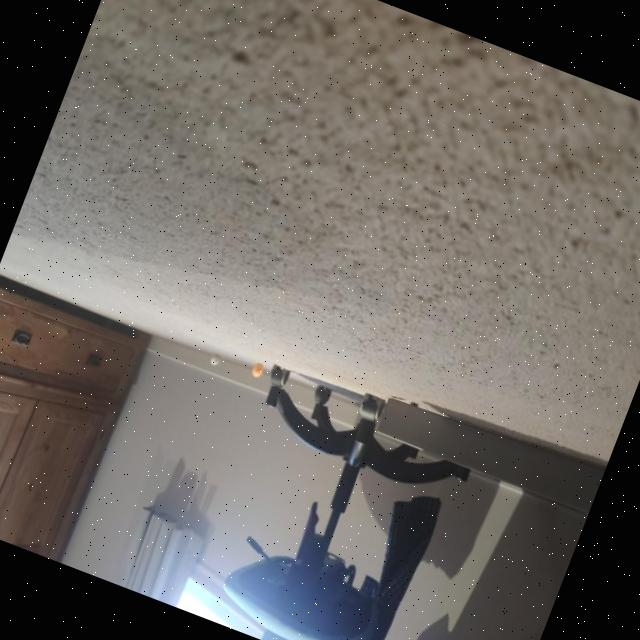ping-pong-ball: (249, 359, 266, 378), (208, 350, 222, 367)
